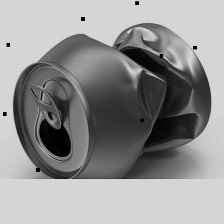can: (7, 21, 212, 178)
